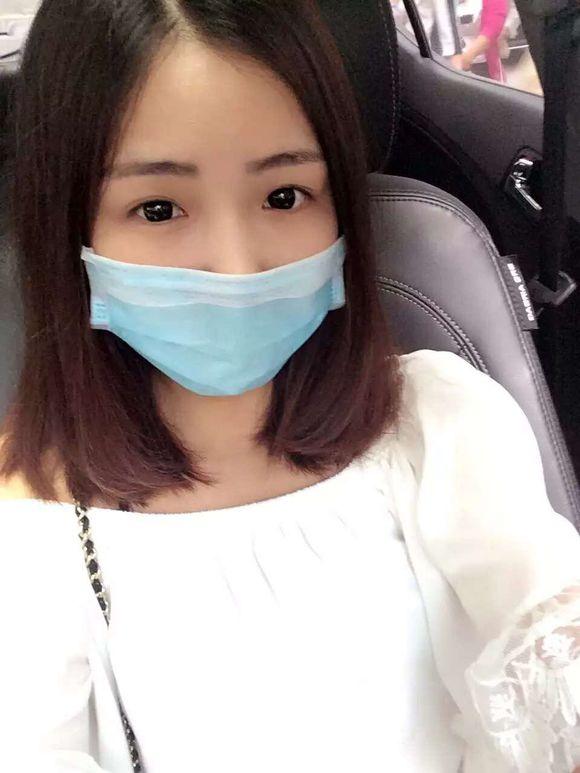face_mask: (91, 35, 339, 393)
